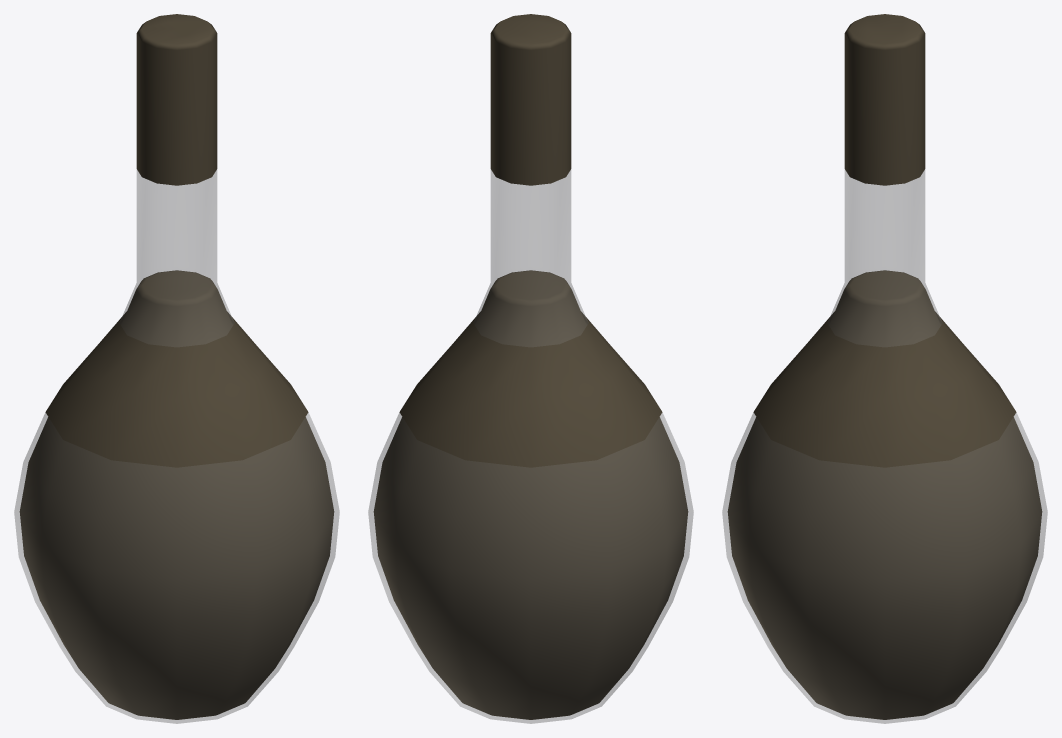
Rendered from Bottle2.fbx.
3 views of the same model, side by side, from view 1: azimuth 30°, elevation 25°; view 2: azimuth 150°, elevation 25°; view 3: azimuth 270°, elevation 25° (orthographic).
Visible parts, largest first — view 1: Bottle2, Liquid; view 2: Bottle2, Liquid; view 3: Bottle2, Liquid.
Boxes of the visible parts, x1=… form: Bottle2: x1=14, y1=14, x2=339, y2=723; Liquid: x1=19, y1=270, x2=334, y2=719; Bottle2: x1=368, y1=14, x2=693, y2=723; Liquid: x1=373, y1=270, x2=688, y2=719; Bottle2: x1=722, y1=14, x2=1047, y2=723; Liquid: x1=727, y1=270, x2=1042, y2=719.
Bounding box in the file's own units: 0.0189 × 0.0425 × 0.0189.
